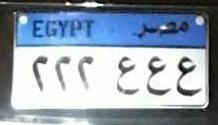2: (75, 54, 97, 92), (53, 51, 72, 95), (30, 53, 49, 94)
ain: (176, 52, 202, 101), (146, 54, 173, 100), (115, 54, 141, 100)
